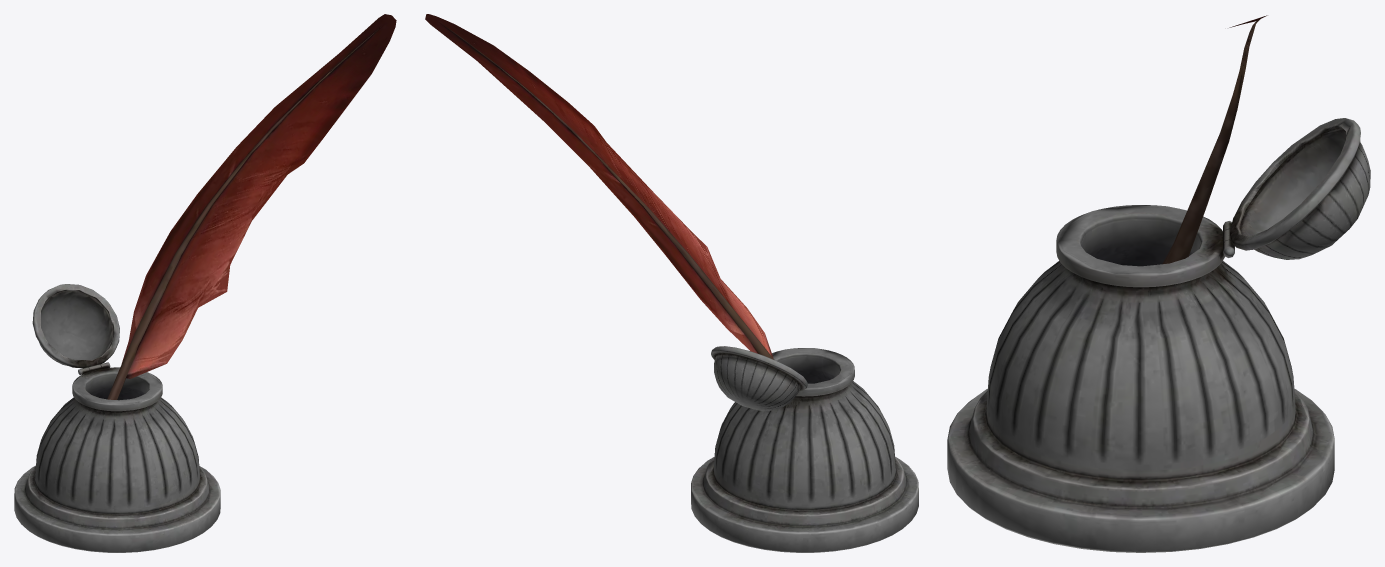
The model's file is tinteiro.glb.
The picture shows the model from 3 angles, left to right: view 1: azimuth 30°, elevation 25°; view 2: azimuth 150°, elevation 25°; view 3: azimuth 270°, elevation 25°; orthographic projection. The views are drawn at different scales.
Parts seen in each view (by area): view 1: Inkwell_2, Feather; view 2: Inkwell_2, Feather; view 3: Inkwell_2, Feather.
Boxes of the visible parts, <box> form: Inkwell_2: <box>14,284,220,552</box>; Feather: <box>107,14,396,399</box>; Inkwell_2: <box>691,346,918,552</box>; Feather: <box>425,14,774,359</box>; Inkwell_2: <box>947,118,1370,552</box>; Feather: <box>1162,15,1267,264</box>.
Size of the model in its own units: 0.157 by 0.1484 by 0.0769.
Materials: 2 (2 with a texture image).
